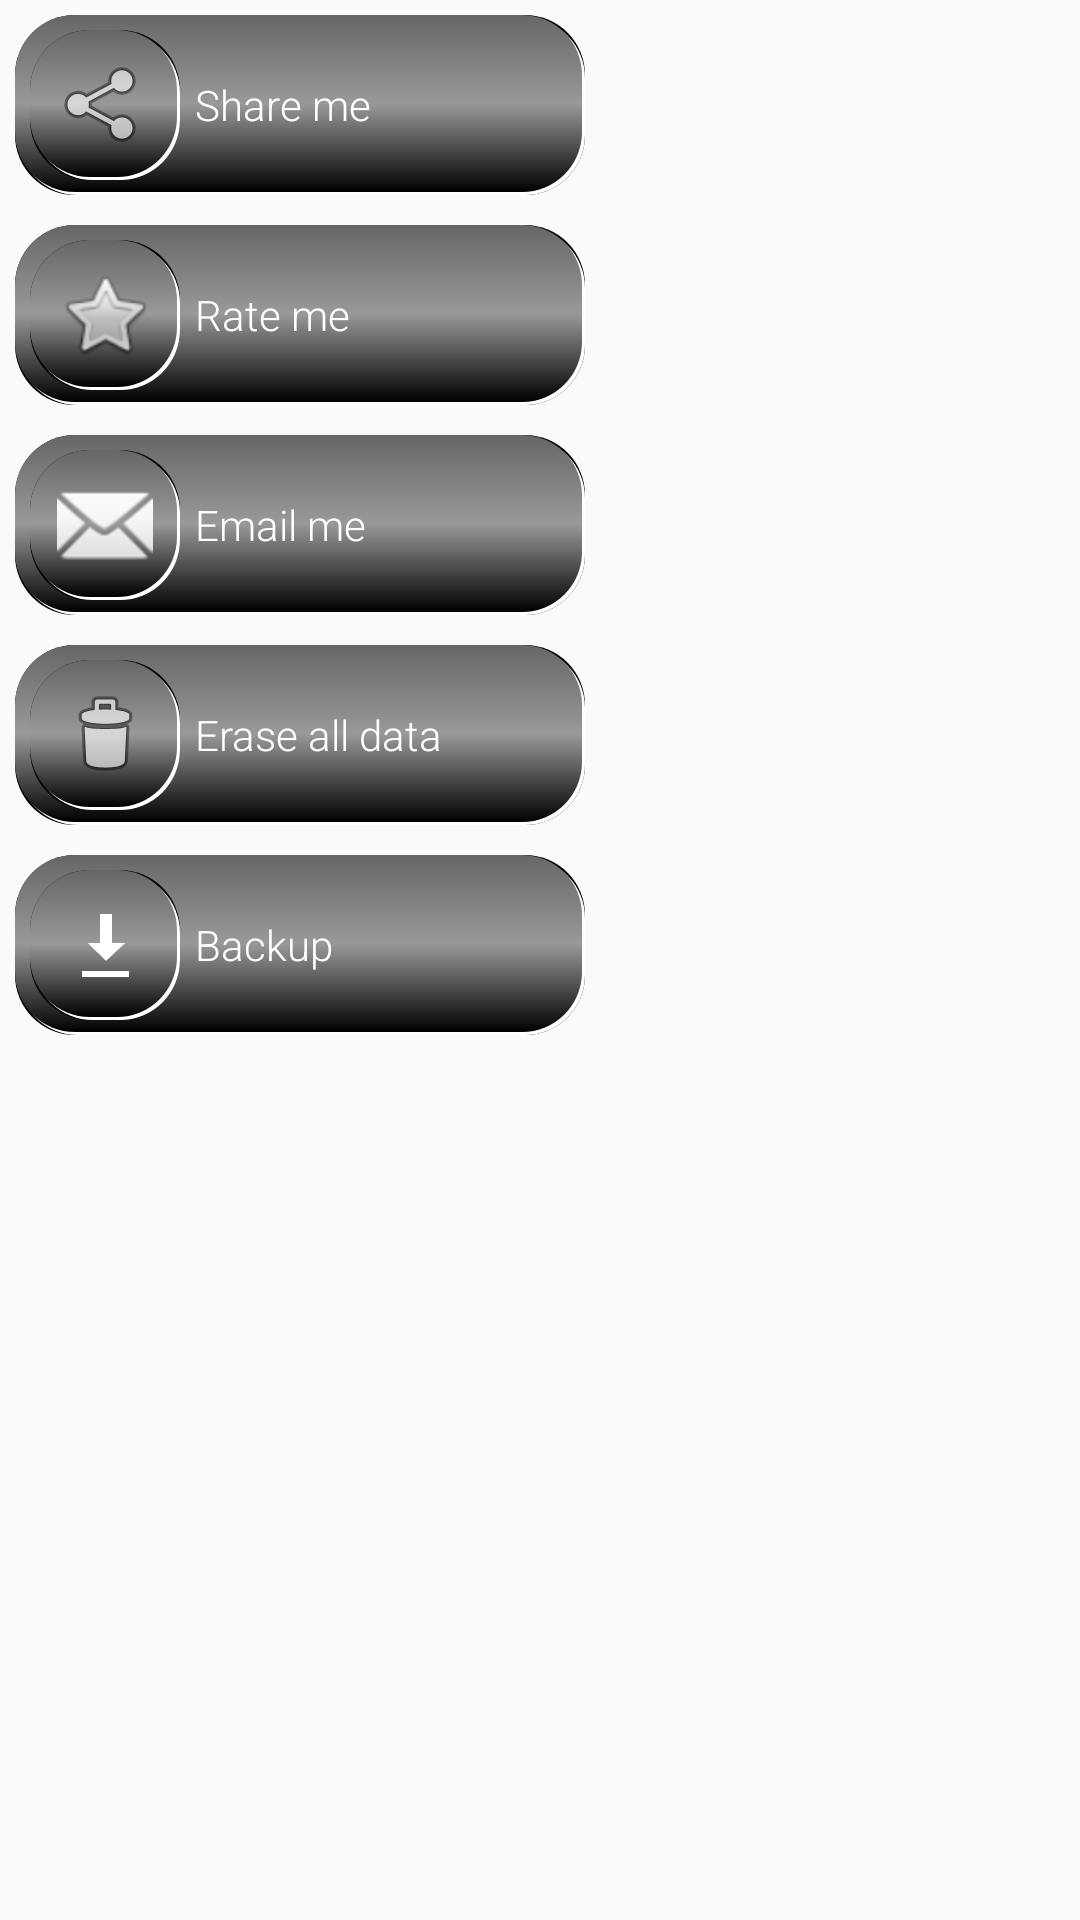

Icon click points for this 1080w x 1920h phone screenshot, format point (x, y):
download: point (105, 945)
star off: point (105, 315)
